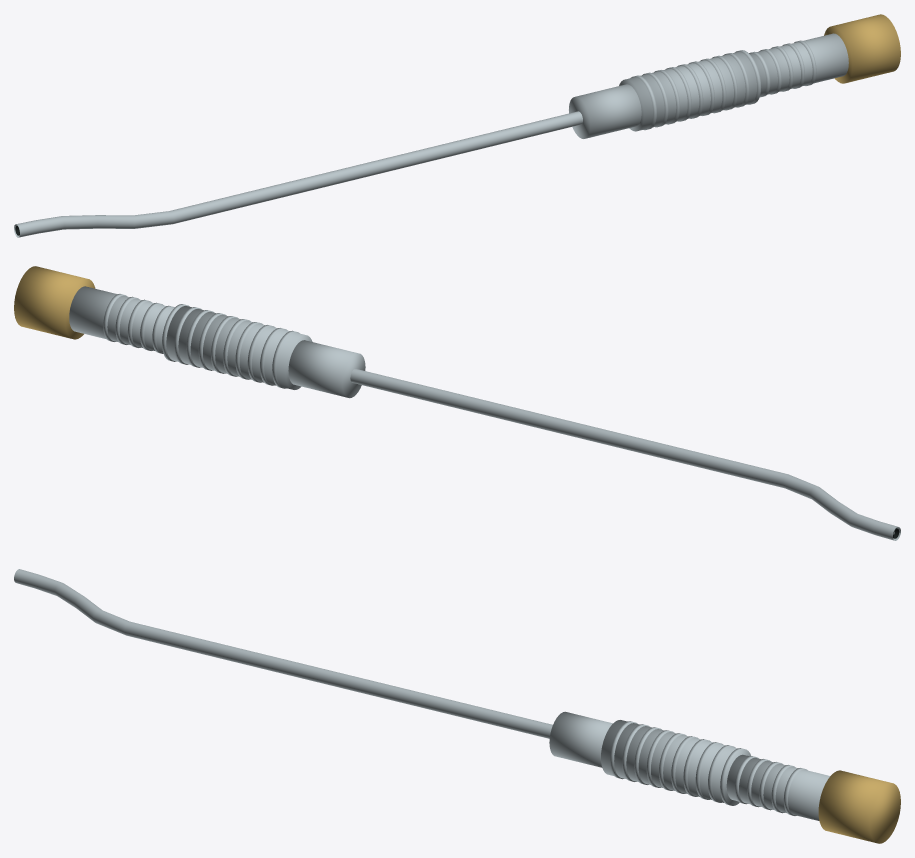
Rendered from irrigation.glb.
3 views of the same model, one above another, from view 1: azimuth 30°, elevation 25°; view 2: azimuth 150°, elevation 25°; view 3: azimuth 330°, elevation 25° (orthographic). The views are drawn at different scales.
Parts seen in each view (by area): view 1: tubular working shaft, machined handle.001, machined handle.003, machined handle.002, machined handle; view 2: tubular working shaft, machined handle.001, machined handle.003, machined handle.002, machined handle; view 3: tubular working shaft, machined handle.001, machined handle.003, machined handle.002, machined handle.
Boxes of the visible parts, box(x1,y1,x2,y2) form: tubular working shaft: box(14, 111, 582, 237); machined handle.001: box(619, 52, 756, 131); machined handle.003: box(824, 14, 900, 83); machined handle.002: box(750, 33, 848, 96); machined handle: box(569, 84, 641, 138); tubular working shaft: box(350, 368, 900, 540); machined handle.001: box(166, 306, 312, 389); machined handle.003: box(14, 266, 95, 339); machined handle.002: box(69, 286, 173, 352); machined handle: box(288, 340, 365, 398); tubular working shaft: box(14, 569, 552, 738); machined handle.001: box(601, 720, 737, 802); machined handle.003: box(818, 770, 900, 843); machined handle.002: box(726, 754, 830, 820); machined handle: box(549, 711, 612, 767).
Size of the model in its own units: 3.14 by 0.19 by 0.2769.
